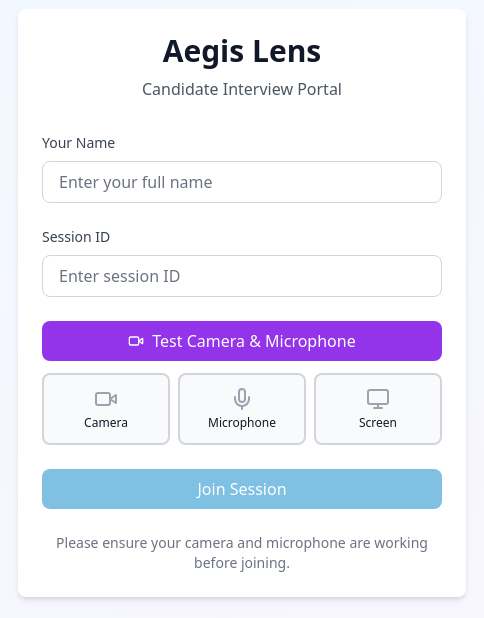
Test: Integration Tests › enables join button when all required fields are filled and permissions granted
Type "John Doe" into the field labelled "Your Name" at [242, 182], box [42,161,442,203]
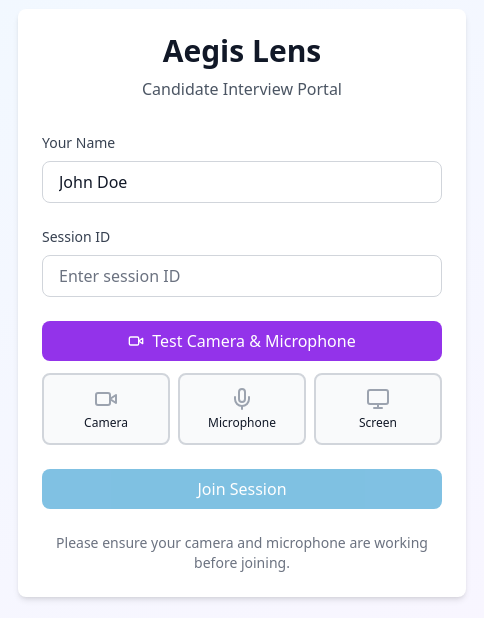
Type "test-session-123" into the field labelled "Session ID" at [242, 276], box [42,255,442,297]
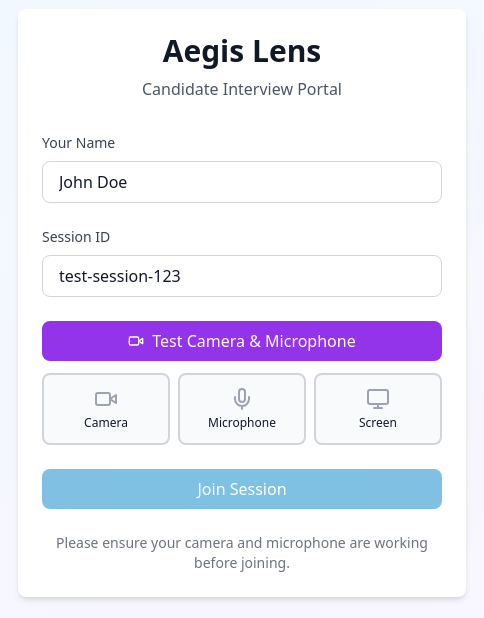
Note: Simulate permission grant
Click the button "Test Camera & Microphone" at [242, 341], box [42,321,442,361]
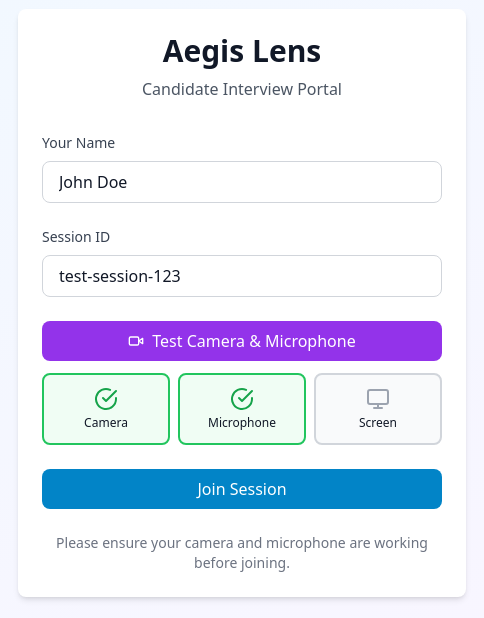
Check: the button "Join Session" is enabled, box [42,469,442,509]
